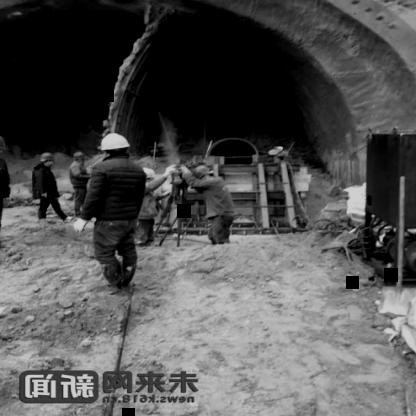helmet: (99, 132, 131, 160), (134, 165, 156, 192), (192, 162, 218, 184), (38, 151, 58, 172), (70, 149, 88, 169), (0, 134, 10, 160)
